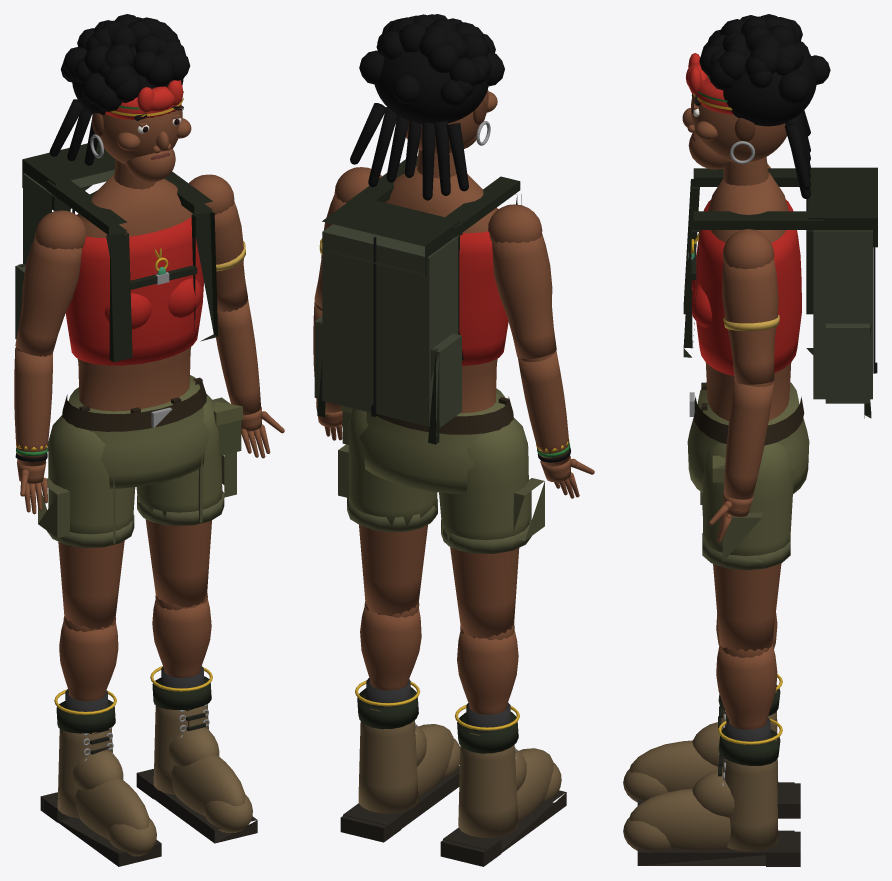
Rendered from female.glb.
3 renders of one model, left to right at view 1: azimuth 30°, elevation 25°; view 2: azimuth 150°, elevation 25°; view 3: azimuth 270°, elevation 25°, orthographic. The views are drawn at different scales.
Visible parts, largest first — view 1: crop_top, torso_skin, shorts_waist, shorts_leg_R, upper_arm_R, thigh_R, thigh_L, forearm_R, shin_R, shorts_leg_L, shin_L, forearm_L (+43 smaller); view 2: backpack_body, shorts_leg_R, shorts_waist, upper_arm_R, crop_top, thigh_R, thigh_L, boot_shaft_L, boot_shaft_R, torso_skin, backpack_flap, shorts_leg_L (+40 smaller); view 3: backpack_body, crop_top, shorts_leg_L, upper_arm_L, thigh_L, torso_skin, backpack_flap, boot_shaft_L, forearm_L, boot_foot_L, shin_L, backpack_pocket_L (+30 smaller).
Part boxes in pixels (bbox=[...]): crop_top: bbox=[66, 214, 203, 365]; torso_skin: bbox=[77, 174, 192, 411]; shorts_waist: bbox=[68, 375, 210, 488]; shorts_leg_R: bbox=[48, 415, 135, 534]; upper_arm_R: bbox=[15, 237, 82, 356]; thigh_R: bbox=[58, 541, 124, 629]; thigh_L: bbox=[145, 519, 211, 607]; forearm_R: bbox=[14, 347, 52, 466]; shin_R: bbox=[59, 621, 118, 701]; shorts_leg_L: bbox=[136, 394, 222, 525]; shin_L: bbox=[152, 599, 211, 677]; forearm_L: bbox=[216, 300, 260, 415]; backpack_body: bbox=[322, 224, 458, 426]; shorts_leg_R: bbox=[439, 417, 529, 552]; shorts_waist: bbox=[359, 388, 505, 493]; upper_arm_R: bbox=[492, 233, 556, 359]; crop_top: bbox=[459, 208, 508, 365]; thigh_R: bbox=[450, 547, 519, 638]; thigh_L: bbox=[359, 525, 427, 616]; boot_shaft_L: bbox=[358, 708, 418, 813]; boot_shaft_R: bbox=[458, 732, 518, 837]; torso_skin: bbox=[385, 166, 497, 413]; backpack_flap: bbox=[322, 196, 459, 275]; shorts_leg_L: bbox=[348, 408, 437, 532]; backpack_body: bbox=[813, 230, 872, 399]; crop_top: bbox=[695, 200, 801, 375]; shorts_leg_L: bbox=[702, 442, 793, 555]; upper_arm_L: bbox=[722, 258, 778, 384]; thigh_L: bbox=[713, 563, 781, 651]; torso_skin: bbox=[705, 172, 791, 421]; backpack_flap: bbox=[808, 167, 877, 247]; boot_shaft_L: bbox=[722, 739, 778, 851]; forearm_L: bbox=[724, 381, 773, 499]; boot_foot_L: bbox=[629, 789, 730, 850]; shin_L: bbox=[716, 643, 777, 729]; backpack_pocket_L: bbox=[825, 323, 870, 403].
Size of the model in its own units: 0.5986 by 1.7 by 0.4845.
